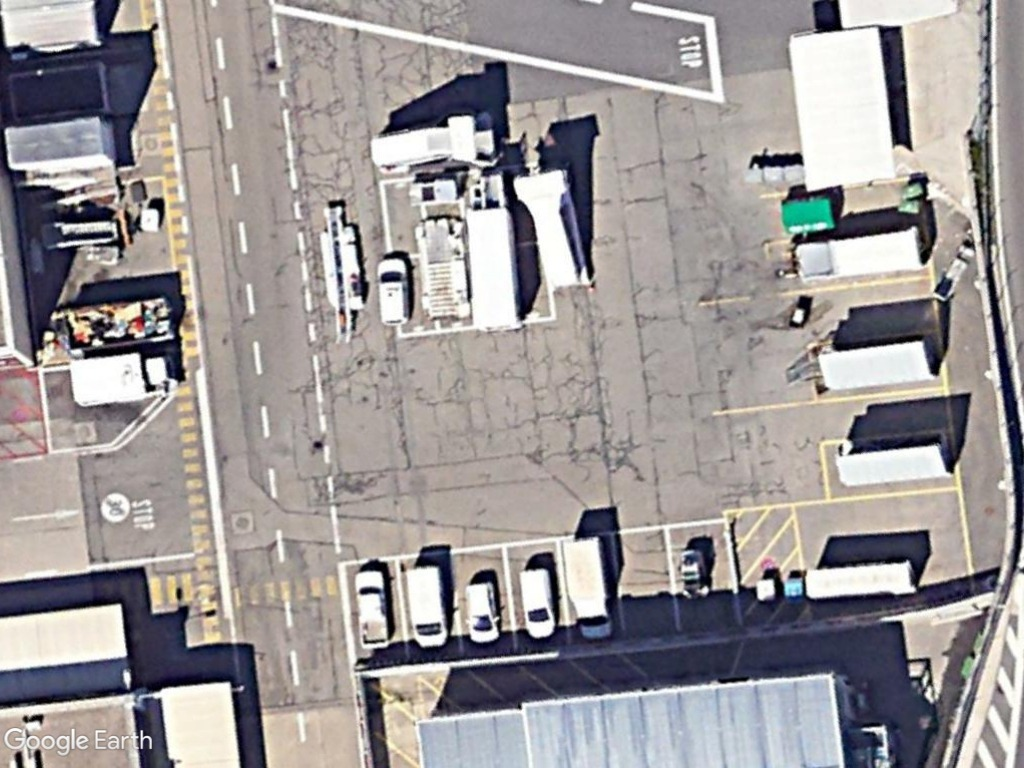car: (373, 255, 413, 329)
others: (351, 566, 393, 652)
stairtruck: (508, 165, 593, 294), (36, 215, 122, 256)
truck: (65, 353, 180, 412), (560, 534, 617, 642)
van: (402, 561, 452, 651), (516, 564, 559, 643), (463, 578, 500, 647)
